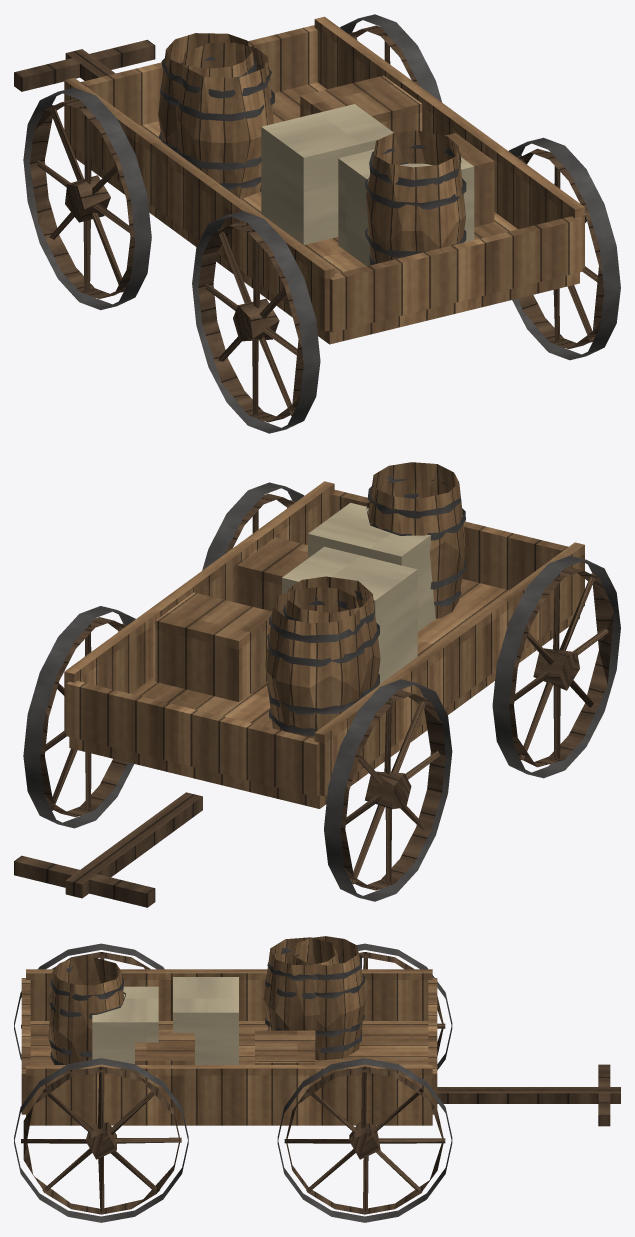
The model's file is Prop_Wagon_Loaded.gltf.
3 renders of one model, top to bottom at view 1: azimuth 30°, elevation 25°; view 2: azimuth 150°, elevation 25°; view 3: azimuth 270°, elevation 25°, orthographic. The views are drawn at different scales.
Parts seen in each view (by area): view 1: Prop_Wagon_Loaded; view 2: Prop_Wagon_Loaded; view 3: Prop_Wagon_Loaded.
Part boxes in pixels (<box>): Prop_Wagon_Loaded: <box>14,14,620,433</box>; Prop_Wagon_Loaded: <box>14,462,620,907</box>; Prop_Wagon_Loaded: <box>14,936,620,1222</box>.
Size of the model in its own units: 1.96 by 1.4 by 4.03.
Materials: 4 (4 with a texture image).
